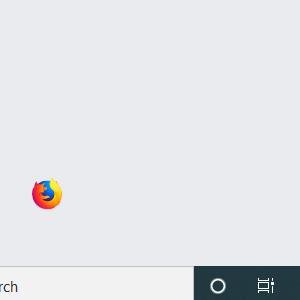firefox: (32, 178, 62, 209)
